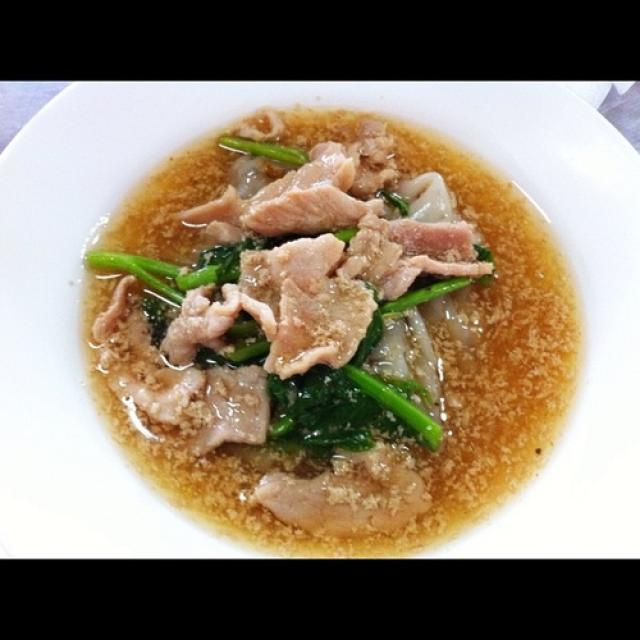面条主食: (68, 101, 602, 549)
